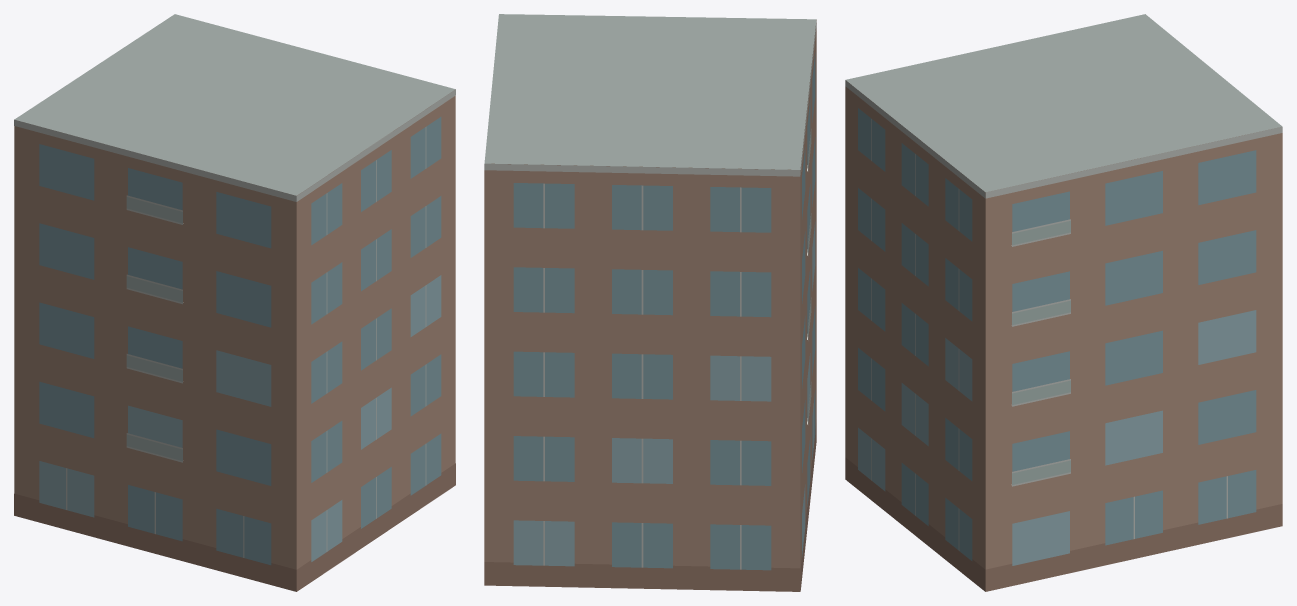
File: survey-upis-32831106.glb
3 views of the same model, side by side, from view 1: azimuth 30°, elevation 25°; view 2: azimuth 150°, elevation 25°; view 3: azimuth 270°, elevation 25° (orthographic). The views are drawn at different scales.
Visible parts, largest first — view 1: survey-upis-32831106.tmp; view 2: survey-upis-32831106.tmp; view 3: survey-upis-32831106.tmp.
Part boxes in pixels (x1=…): survey-upis-32831106.tmp: x1=14, y1=14, x2=455, y2=591; survey-upis-32831106.tmp: x1=484, y1=14, x2=816, y2=591; survey-upis-32831106.tmp: x1=845, y1=14, x2=1282, y2=591.
Bounding box in the file's own units: 14.8 × 15.45 × 15.33.
